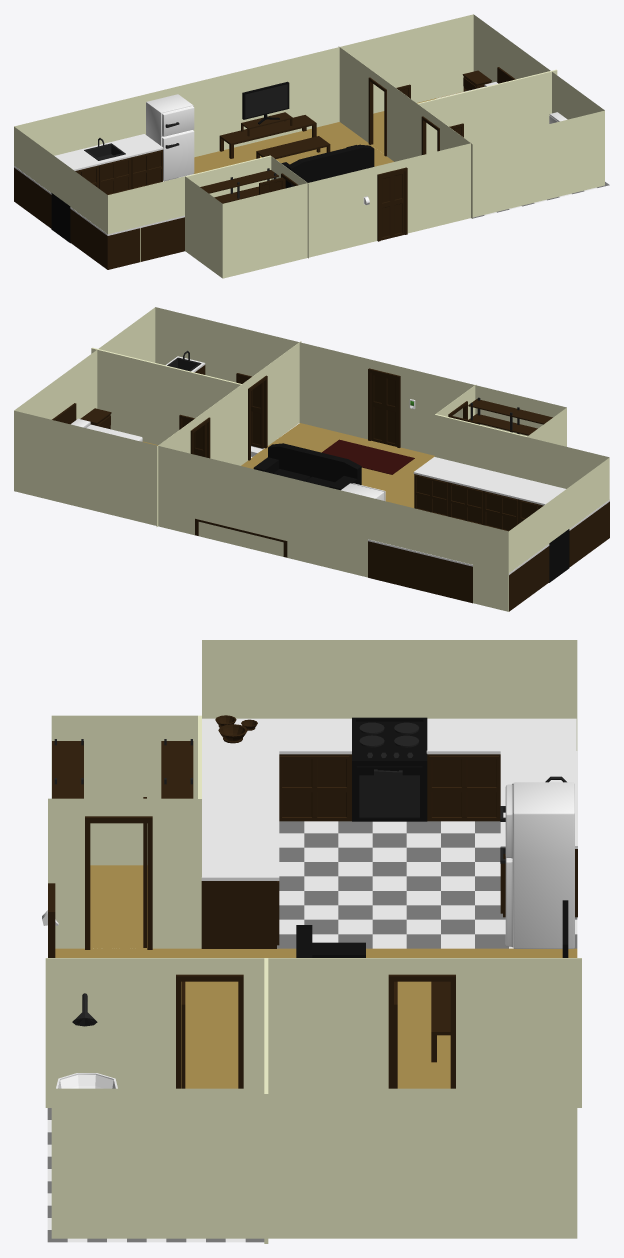
Rendered from RoomExport.fbx.
3 renders of one model, top to bottom at view 1: azimuth 30°, elevation 25°; view 2: azimuth 150°, elevation 25°; view 3: azimuth 270°, elevation 25°, orthographic. The views are drawn at different scales.
Parts seen in each view (by area): view 1: Box001, Box003, Box002, Box040, Box014, Box038, Box028, Box029, Box007, Box004, Box019, Box017 (+15 smaller); view 2: Box001, Box003, Box002, Box004, Box014, Box034, Box033, Box032, Box007, Box020, Box028, Box030 (+17 smaller); view 3: Box001, Box002, Object, Box005, Box040, Box034, Box035, Box037, Box043, Box032, Box039, Box031 (+15 smaller).
Part boxes in pixels (x1,y1,x2,y2): Box001: [14, 14, 604, 278]; Box003: [417, 69, 557, 153]; Box002: [338, 46, 472, 218]; Box040: [146, 94, 194, 180]; Box014: [281, 144, 374, 188]; Box038: [89, 221, 140, 269]; Box028: [112, 134, 163, 189]; Box029: [80, 142, 131, 194]; Box007: [380, 171, 404, 240]; Box004: [185, 155, 271, 251]; Box019: [242, 81, 289, 124]; Box017: [219, 115, 316, 158]; Box001: [14, 307, 609, 611]; Box003: [91, 347, 241, 445]; Box002: [156, 341, 301, 526]; Box004: [434, 414, 527, 479]; Box014: [253, 443, 361, 490]; Box034: [413, 457, 468, 516]; Box033: [448, 465, 503, 525]; Box032: [483, 474, 538, 531]; Box007: [371, 373, 396, 446]; Box020: [322, 439, 414, 474]; Box028: [368, 539, 402, 586]; Box030: [438, 556, 472, 603]; Box001: [51, 640, 577, 1238]; Box002: [45, 958, 581, 1107]; Object: [277, 821, 577, 948]; Box005: [48, 798, 197, 948]; Box040: [505, 782, 574, 948]; Box034: [201, 846, 279, 948]; Box035: [426, 718, 501, 821]; Box037: [277, 718, 351, 821]; Box043: [352, 717, 427, 821]; Box032: [202, 782, 279, 814]; Box039: [501, 718, 576, 751]; Box031: [202, 751, 279, 782].
Bounding box in the file's own units: 563 × 88.54 × 283.
